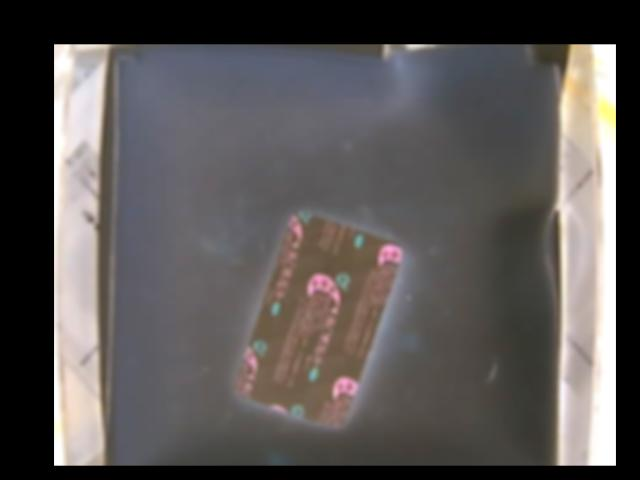Medicine: (241, 211, 397, 427)
